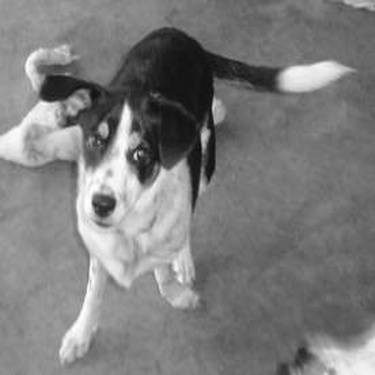dog: (19, 5, 356, 367)
